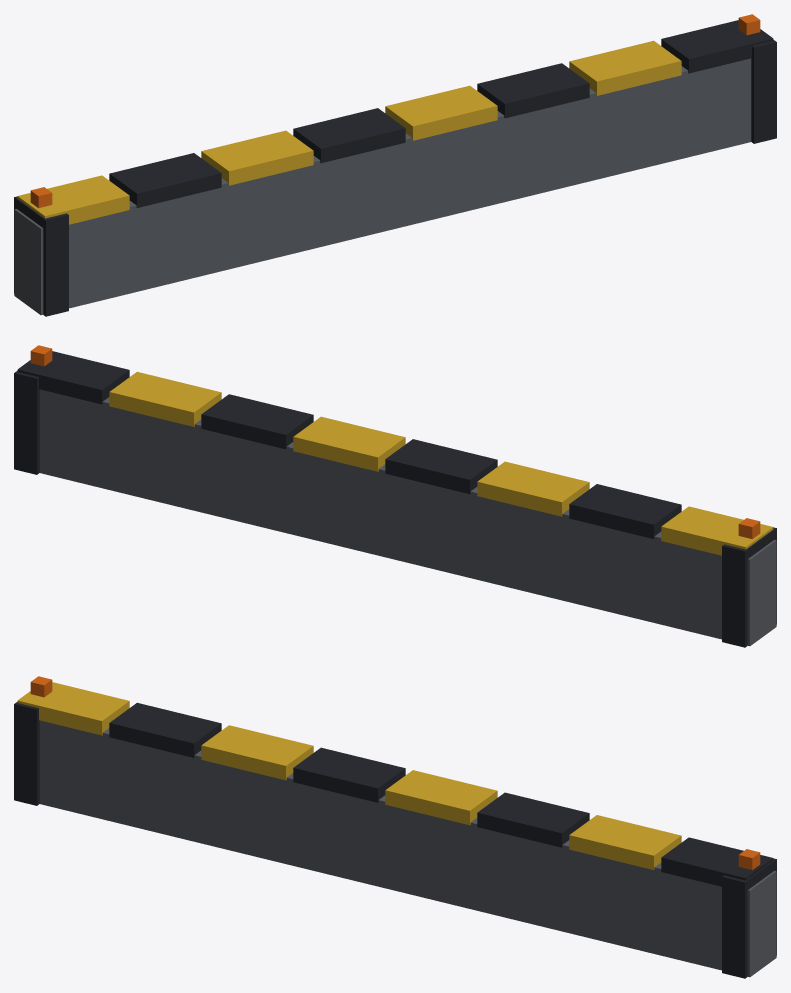
File: mobile.glb
3 views of the same model, one above another, from view 1: azimuth 30°, elevation 25°; view 2: azimuth 150°, elevation 25°; view 3: azimuth 330°, elevation 25° (orthographic).
Parts seen in each view (by area): view 1: portal-closure; view 2: portal-closure; view 3: portal-closure.
Part boxes in pixels (x1,y1,x2,y2): portal-closure: [14, 14, 776, 316]; portal-closure: [14, 345, 776, 647]; portal-closure: [14, 676, 776, 978].
Bounding box in the file's own units: 16 × 2.3 × 1.2.
